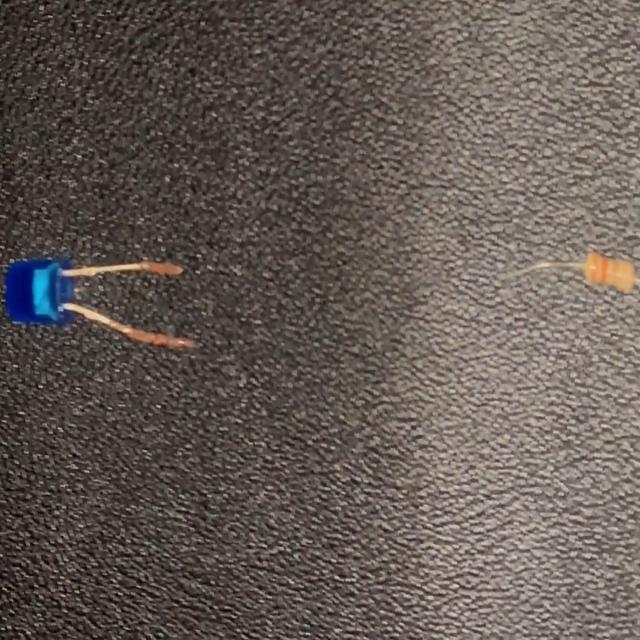LED: (4, 254, 204, 356)
faded: (614, 254, 638, 294)
resistor: (513, 244, 640, 303)
rust: (111, 316, 202, 351), (141, 260, 187, 277)
